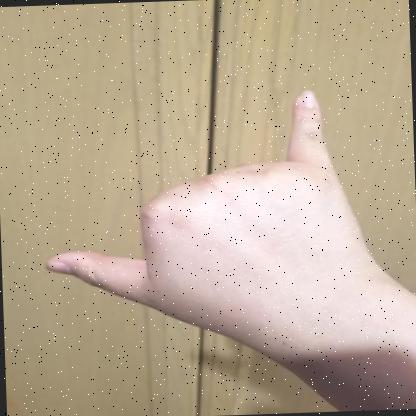Y: (45, 90, 388, 355)
